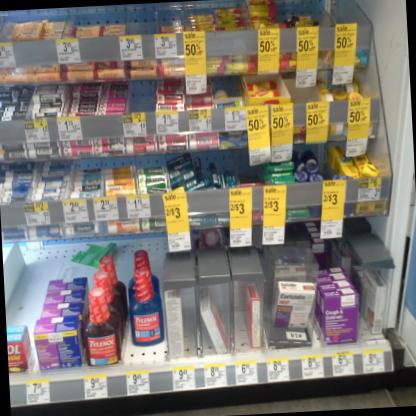empty_space: (17, 242, 37, 325), (125, 341, 166, 368), (125, 2, 157, 35), (316, 0, 344, 32), (0, 10, 10, 43)
